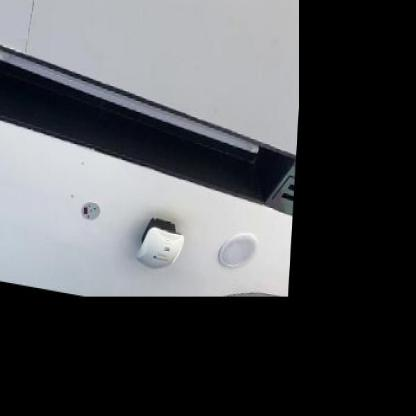light_off: (0, 0, 275, 183)
